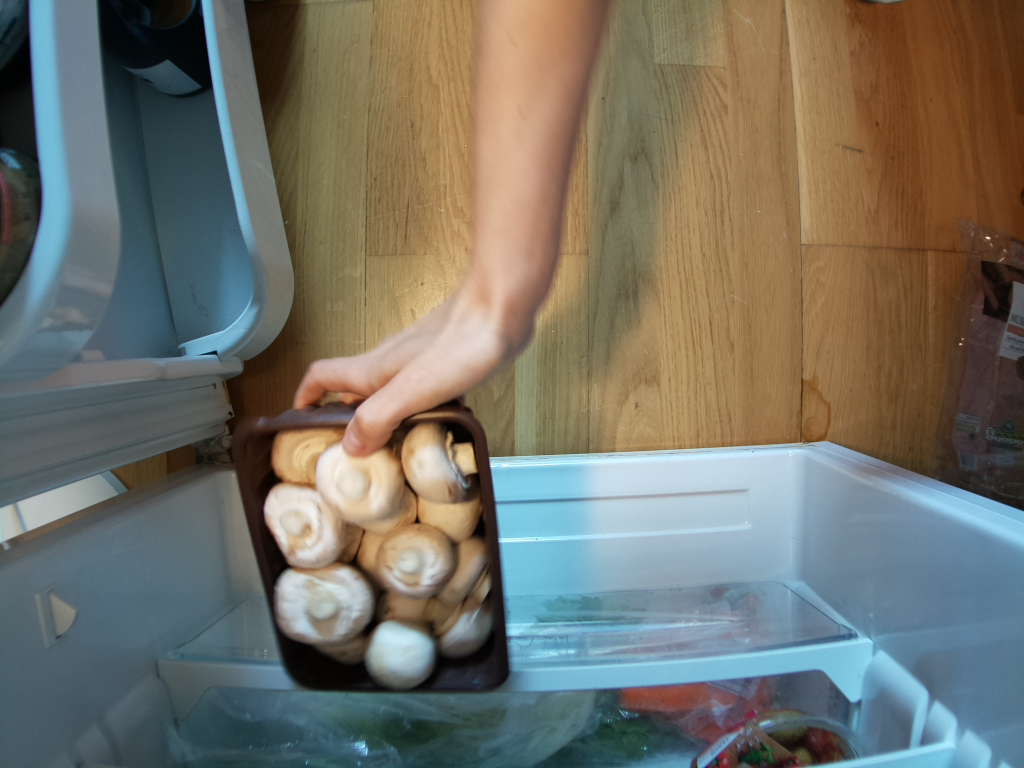mushrooms: (227, 390, 522, 707)
